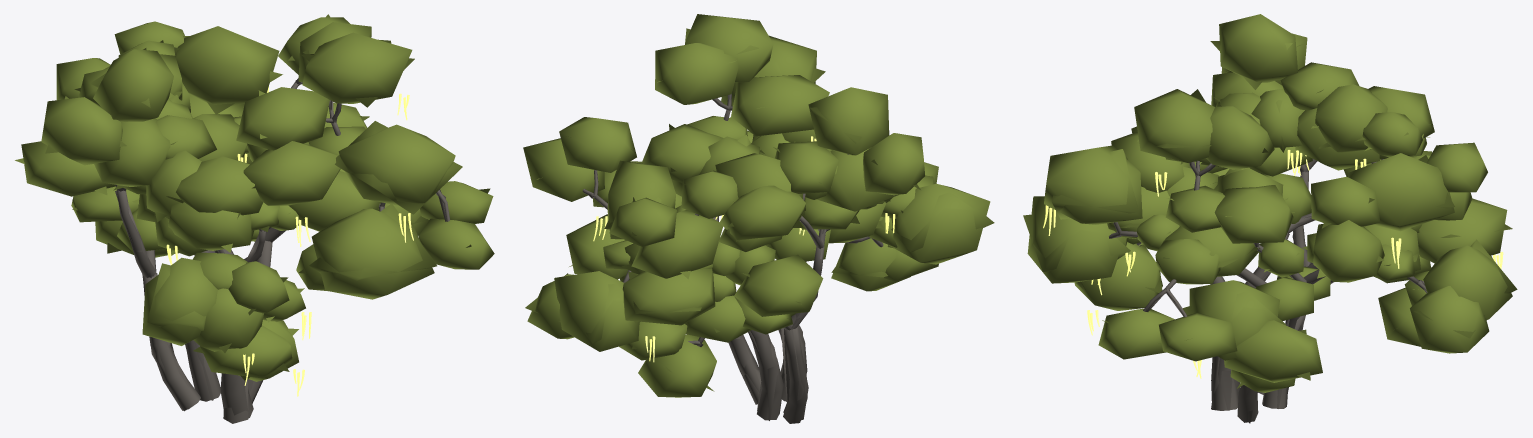
Rendered from scrub_oak_5.glb.
The picture shows the model from 3 angles, left to right: view 1: azimuth 30°, elevation 25°; view 2: azimuth 150°, elevation 25°; view 3: azimuth 270°, elevation 25°; orthographic projection. The views are drawn at different scales.
Visible parts, largest first — view 1: ScrubOak_Foliage_2_Leaves, ScrubOak_Foliage_1_Leaves, ScrubOak_Foliage_29_Leaves, ScrubOak_Far_Foliage, ScrubOak_Foliage_8_Leaves, ScrubOak_Foliage_67_Leaves, ScrubOak_Foliage_7_Leaves, ScrubOak_Foliage_38_Leaves, ScrubOak_Foliage_39_Leaves, ScrubOak_Foliage_63_Leaves, ScrubOak_Foliage_71_Leaves, ScrubOak_Foliage_53_Leaves (+35 smaller); view 2: ScrubOak_Foliage_63_Leaves, ScrubOak_Foliage_7_Leaves, ScrubOak_Foliage_13_Leaves, ScrubOak_Foliage_9_Leaves, ScrubOak_Foliage_38_Leaves, ScrubOak_Foliage_33_Leaves, ScrubOak_Far_Foliage, ScrubOak_Foliage_47_Leaves, ScrubOak_Foliage_34_Leaves, ScrubOak_Foliage_25_Leaves, ScrubOak_Foliage_8_Leaves, ScrubOak_Foliage_10_Leaves (+34 smaller); view 3: ScrubOak_Foliage_1_Leaves, ScrubOak_Far_Foliage, ScrubOak_Foliage_29_Leaves, ScrubOak_Foliage_8_Leaves, ScrubOak_Foliage_2_Leaves, ScrubOak_Foliage_38_Leaves, ScrubOak_Foliage_23_Leaves, ScrubOak_Foliage_14_Leaves, ScrubOak_Foliage_19_Leaves, ScrubOak_Foliage_13_Leaves, ScrubOak_Foliage_11_Leaves, ScrubOak_Foliage_33_Leaves (+38 smaller).
Part boxes in pixels (x1,y1,x2,y2): ScrubOak_Foliage_2_Leaves: (311,208,434,299); ScrubOak_Foliage_1_Leaves: (338,124,455,205); ScrubOak_Foliage_29_Leaves: (175,26,279,105); ScrubOak_Far_Foliage: (15,14,490,381); ScrubOak_Foliage_8_Leaves: (302,32,412,103); ScrubOak_Foliage_67_Leaves: (243,141,340,205); ScrubOak_Foliage_7_Leaves: (236,87,329,150); ScrubOak_Foliage_38_Leaves: (93,49,173,122); ScrubOak_Foliage_39_Leaves: (41,97,122,165); ScrubOak_Foliage_63_Leaves: (142,257,217,345); ScrubOak_Foliage_71_Leaves: (176,156,262,215); ScrubOak_Foliage_53_Leaves: (94,118,170,186); ScrubOak_Foliage_63_Leaves: (888,183,990,264); ScrubOak_Foliage_7_Leaves: (731,75,829,136); ScrubOak_Foliage_13_Leaves: (554,271,639,351); ScrubOak_Foliage_9_Leaves: (655,43,738,104); ScrubOak_Foliage_38_Leaves: (808,87,889,155); ScrubOak_Foliage_33_Leaves: (622,268,715,325); ScrubOak_Far_Foliage: (525,28,994,391); ScrubOak_Foliage_47_Leaves: (734,254,823,316); ScrubOak_Foliage_34_Leaves: (631,210,722,278); ScrubOak_Foliage_25_Leaves: (719,185,805,239); ScrubOak_Foliage_8_Leaves: (685,14,773,82); ScrubOak_Foliage_10_Leaves: (559,117,636,172); ScrubOak_Foliage_1_Leaves: (1044,145,1142,224); ScrubOak_Far_Foliage: (1023,41,1517,388); ScrubOak_Foliage_29_Leaves: (1347,153,1454,231); ScrubOak_Foliage_8_Leaves: (1134,89,1214,162); ScrubOak_Foliage_2_Leaves: (1027,196,1124,283); ScrubOak_Foliage_38_Leaves: (1219,14,1297,82); ScrubOak_Foliage_23_Leaves: (1224,320,1322,382); ScrubOak_Foliage_14_Leaves: (1410,286,1489,353); ScrubOak_Foliage_19_Leaves: (1214,185,1293,243); ScrubOak_Foliage_13_Leaves: (1423,245,1512,320); ScrubOak_Foliage_11_Leaves: (1313,220,1384,282); ScrubOak_Foliage_33_Leaves: (1417,198,1507,263).
Size of the model in its own units: 3.27 by 2.95 by 3.66.
